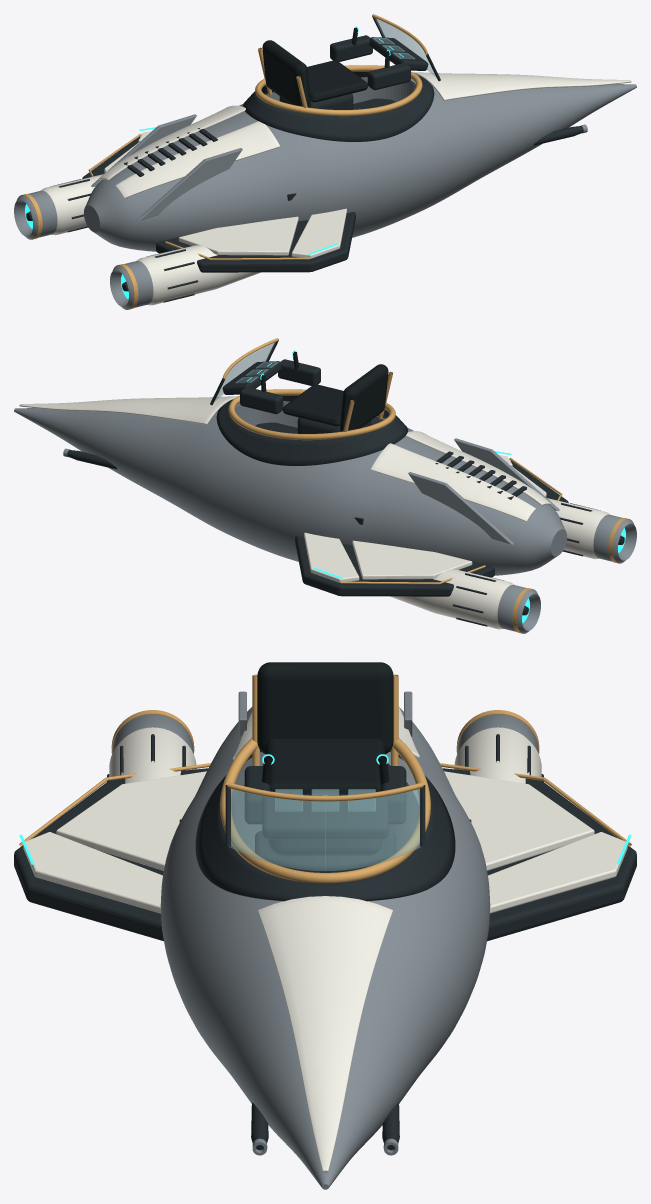
Rendered from SwiftCandidate.glb.
3 renders of one model, top to bottom at view 1: azimuth 30°, elevation 25°; view 2: azimuth 150°, elevation 25°; view 3: azimuth 270°, elevation 25°, orthographic. The views are drawn at different scales.
Parts seen in each view (by area): view 1: SM_SwiftCandidate; view 2: SM_SwiftCandidate; view 3: SM_SwiftCandidate.
Part boxes in pixels (x1,y1,x2,y2): SM_SwiftCandidate: (14, 14, 636, 309); SM_SwiftCandidate: (14, 338, 636, 633); SM_SwiftCandidate: (14, 662, 636, 1189).
Size of the model in its own units: 4.83 by 1.55 by 2.56.
